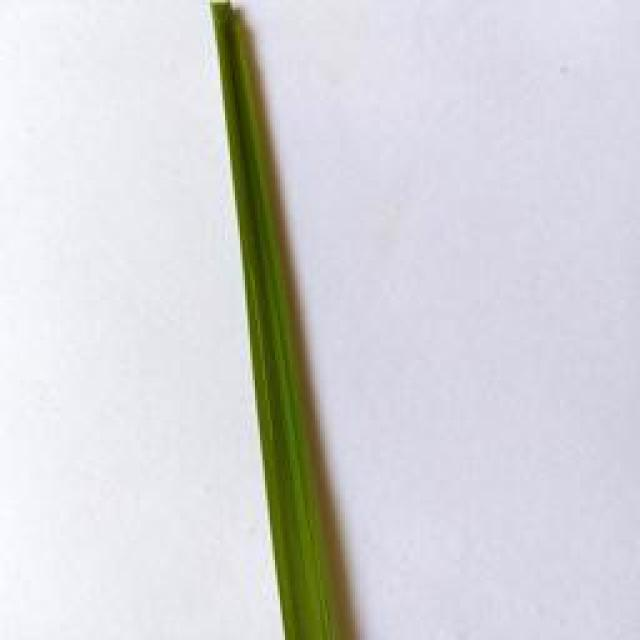Healthy-Plant: (200, 0, 345, 640)
